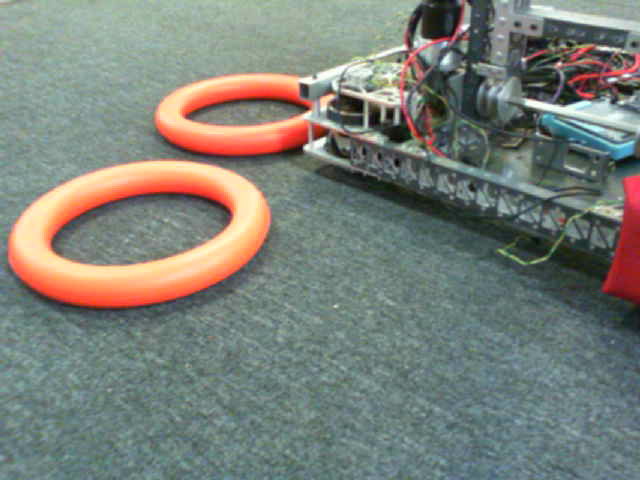Note: (13, 165, 276, 313), (161, 79, 337, 163)
Robot: (305, 4, 639, 287)
